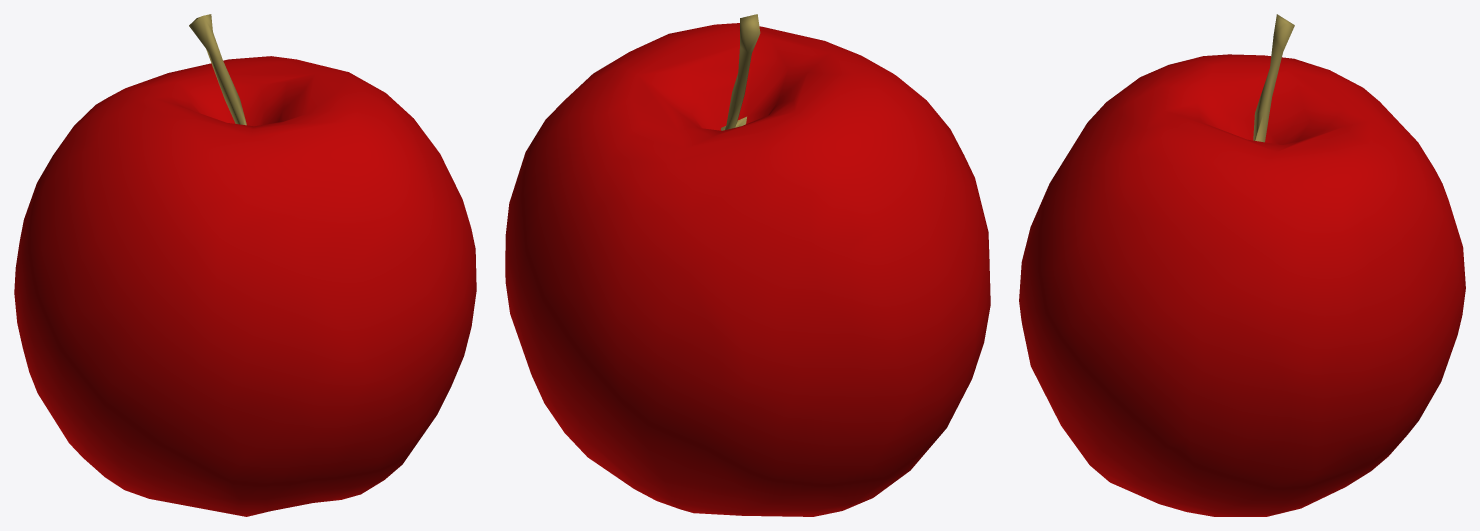
File: apple.gltf
The picture shows the model from 3 angles, left to right: view 1: azimuth 30°, elevation 25°; view 2: azimuth 150°, elevation 25°; view 3: azimuth 270°, elevation 25°; orthographic projection. The views are drawn at different scales.
Parts seen in each view (by area): view 1: Apple.1; view 2: Apple.1; view 3: Apple.1.
Boxes of the visible parts, left/top/right/bottom form: Apple.1: left=14, top=14, right=476, bottom=516; Apple.1: left=505, top=14, right=990, bottom=516; Apple.1: left=1019, top=14, right=1465, bottom=516.
Bounding box in the file's own units: 0.0687 × 0.0744 × 0.0673.
